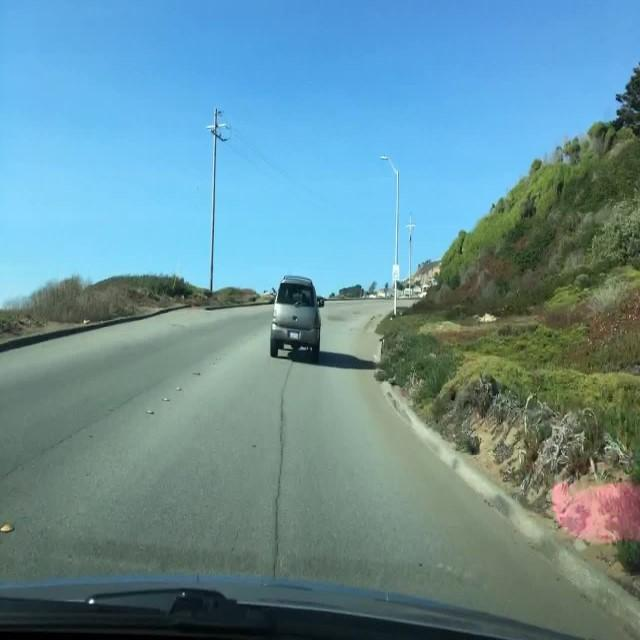normal: (244, 241, 346, 373)
